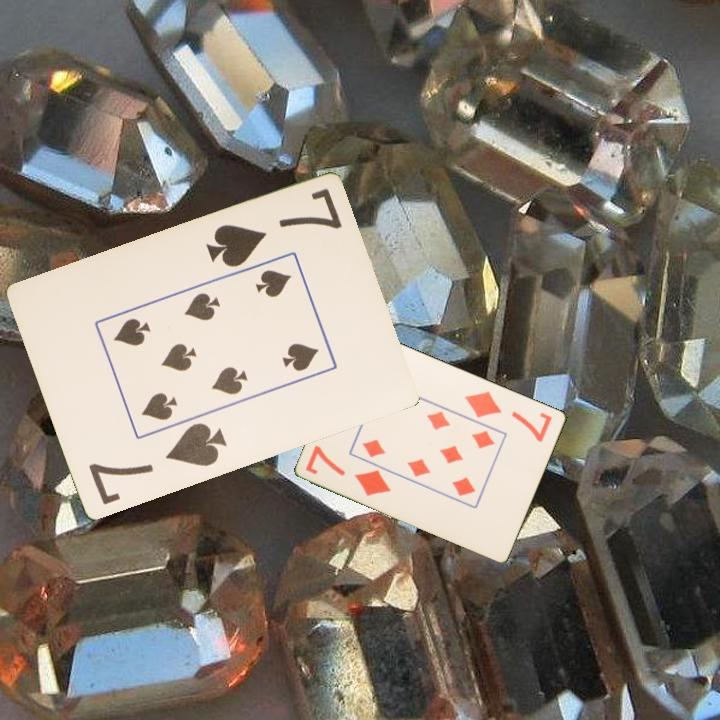7d: (461, 387, 556, 445), (302, 441, 394, 499)
7s: (85, 419, 230, 509), (202, 185, 345, 271)
